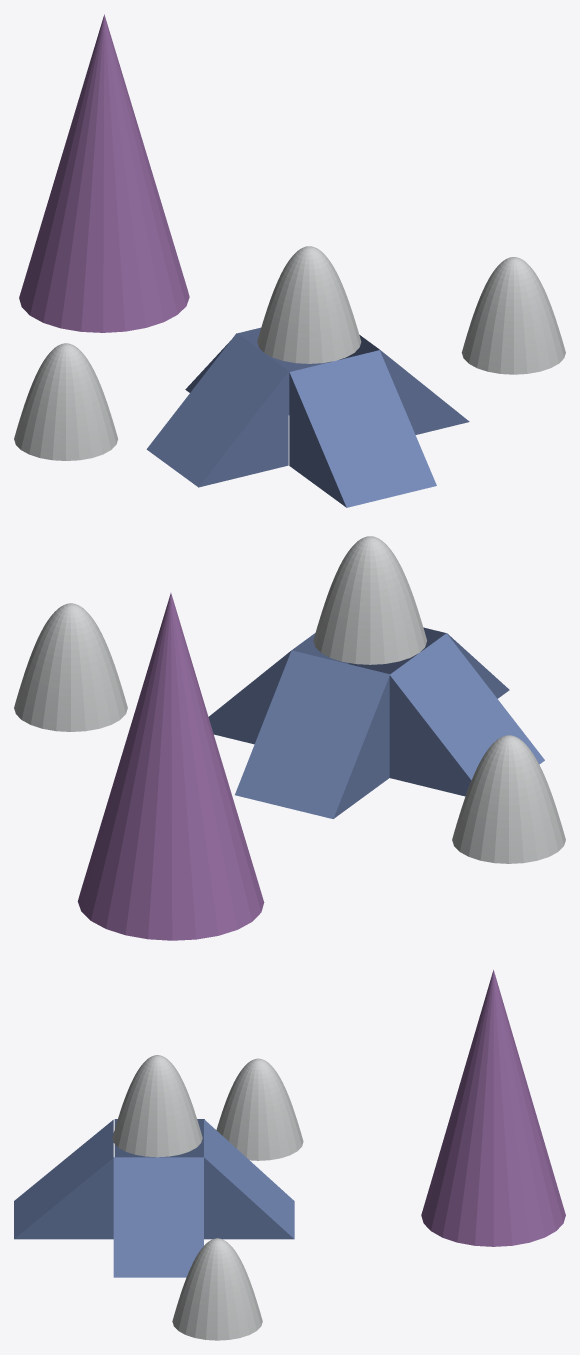
3 renders of one model, top to bottom at view 1: azimuth 30°, elevation 25°; view 2: azimuth 150°, elevation 25°; view 3: azimuth 270°, elevation 25°, orthographic. The views are drawn at different scales.
Parts seen in each view (by area): view 1: Mesh_Mesh_head_geo.001_lambert2SG.001; view 2: Mesh_Mesh_head_geo.001_lambert2SG.001; view 3: Mesh_Mesh_head_geo.001_lambert2SG.001.
Boxes of the visible parts, box(x1,y1,x2,y2) form: Mesh_Mesh_head_geo.001_lambert2SG.001: box(14, 14, 565, 507); Mesh_Mesh_head_geo.001_lambert2SG.001: box(14, 536, 565, 940); Mesh_Mesh_head_geo.001_lambert2SG.001: box(14, 970, 565, 1340).
Size of the model in its own units: 114 by 60 by 122.
